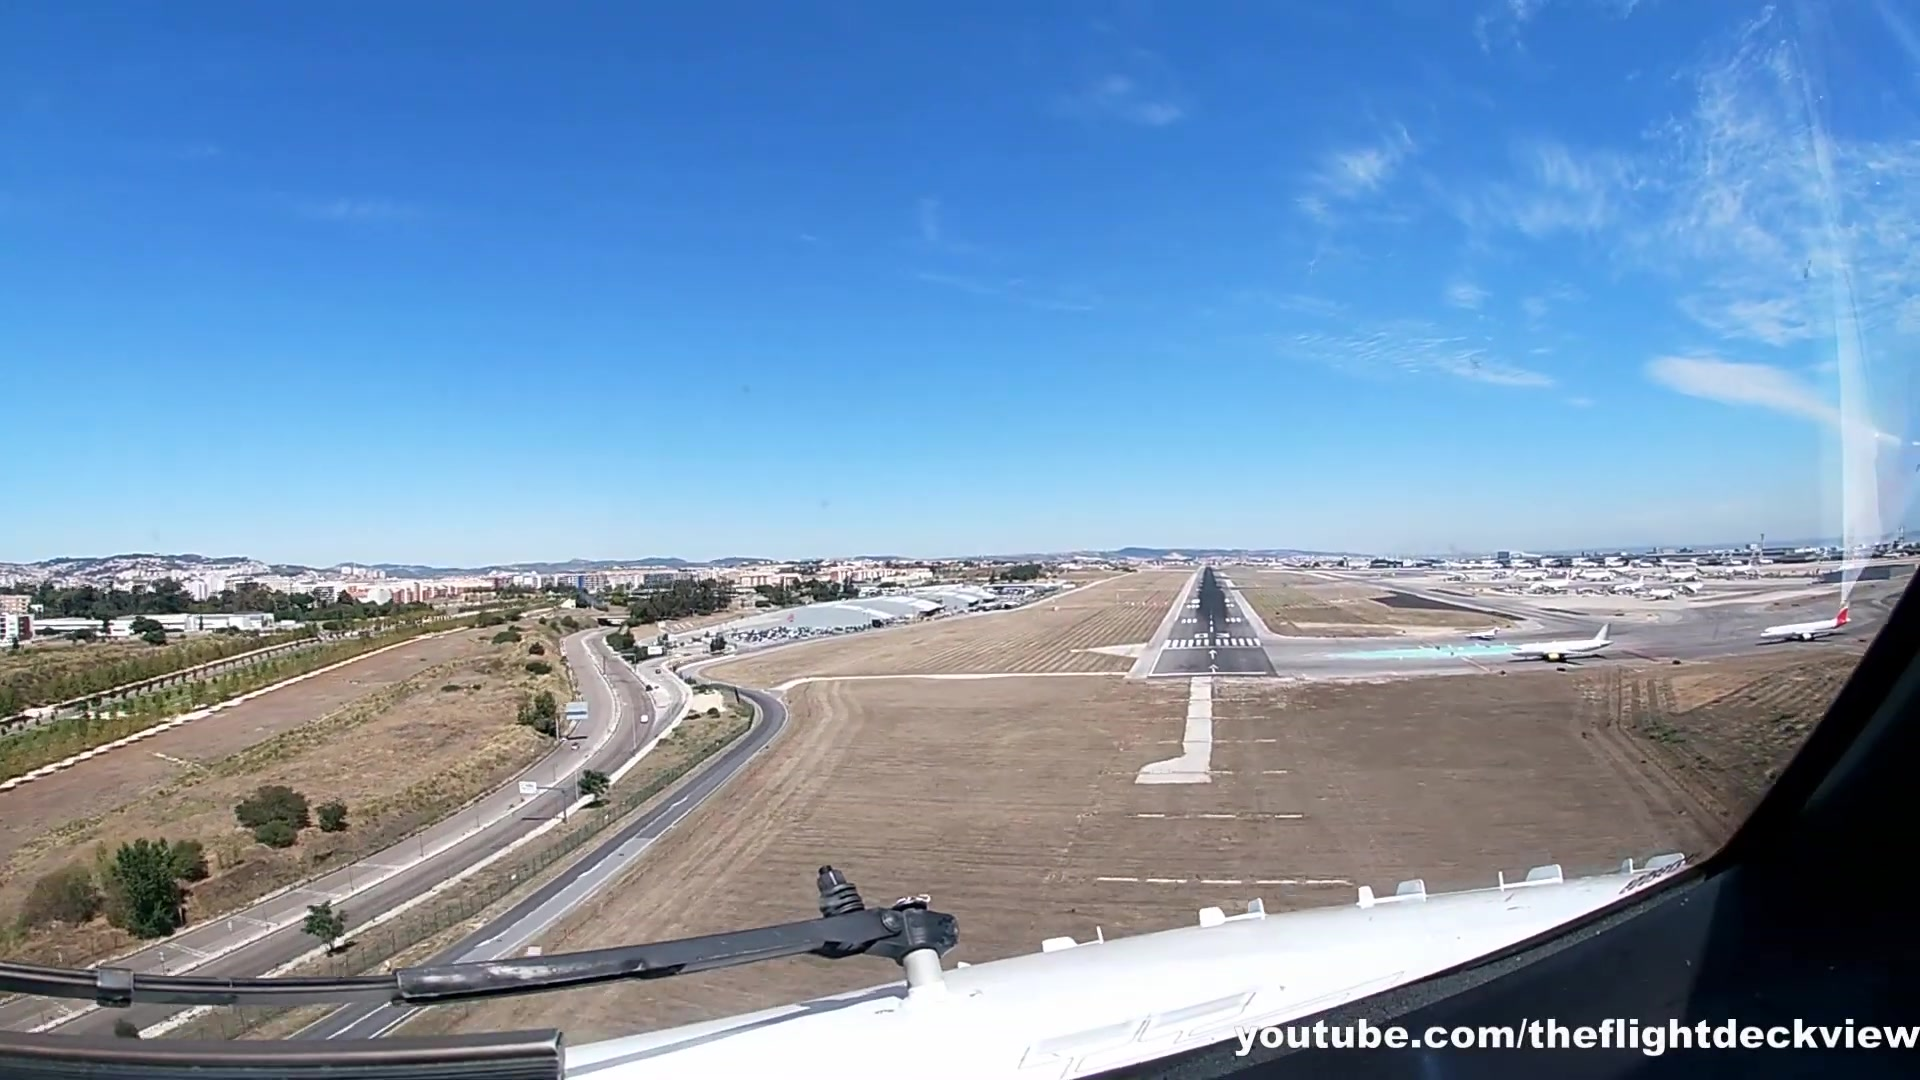entrance: (1160, 636, 1265, 651)
runway: (1138, 564, 1276, 679)
